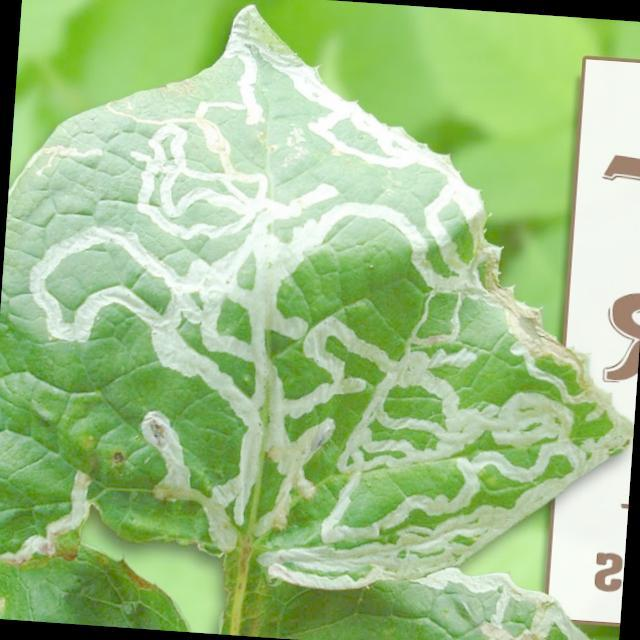Tomato target spot leaf: (0, 5, 633, 587)
